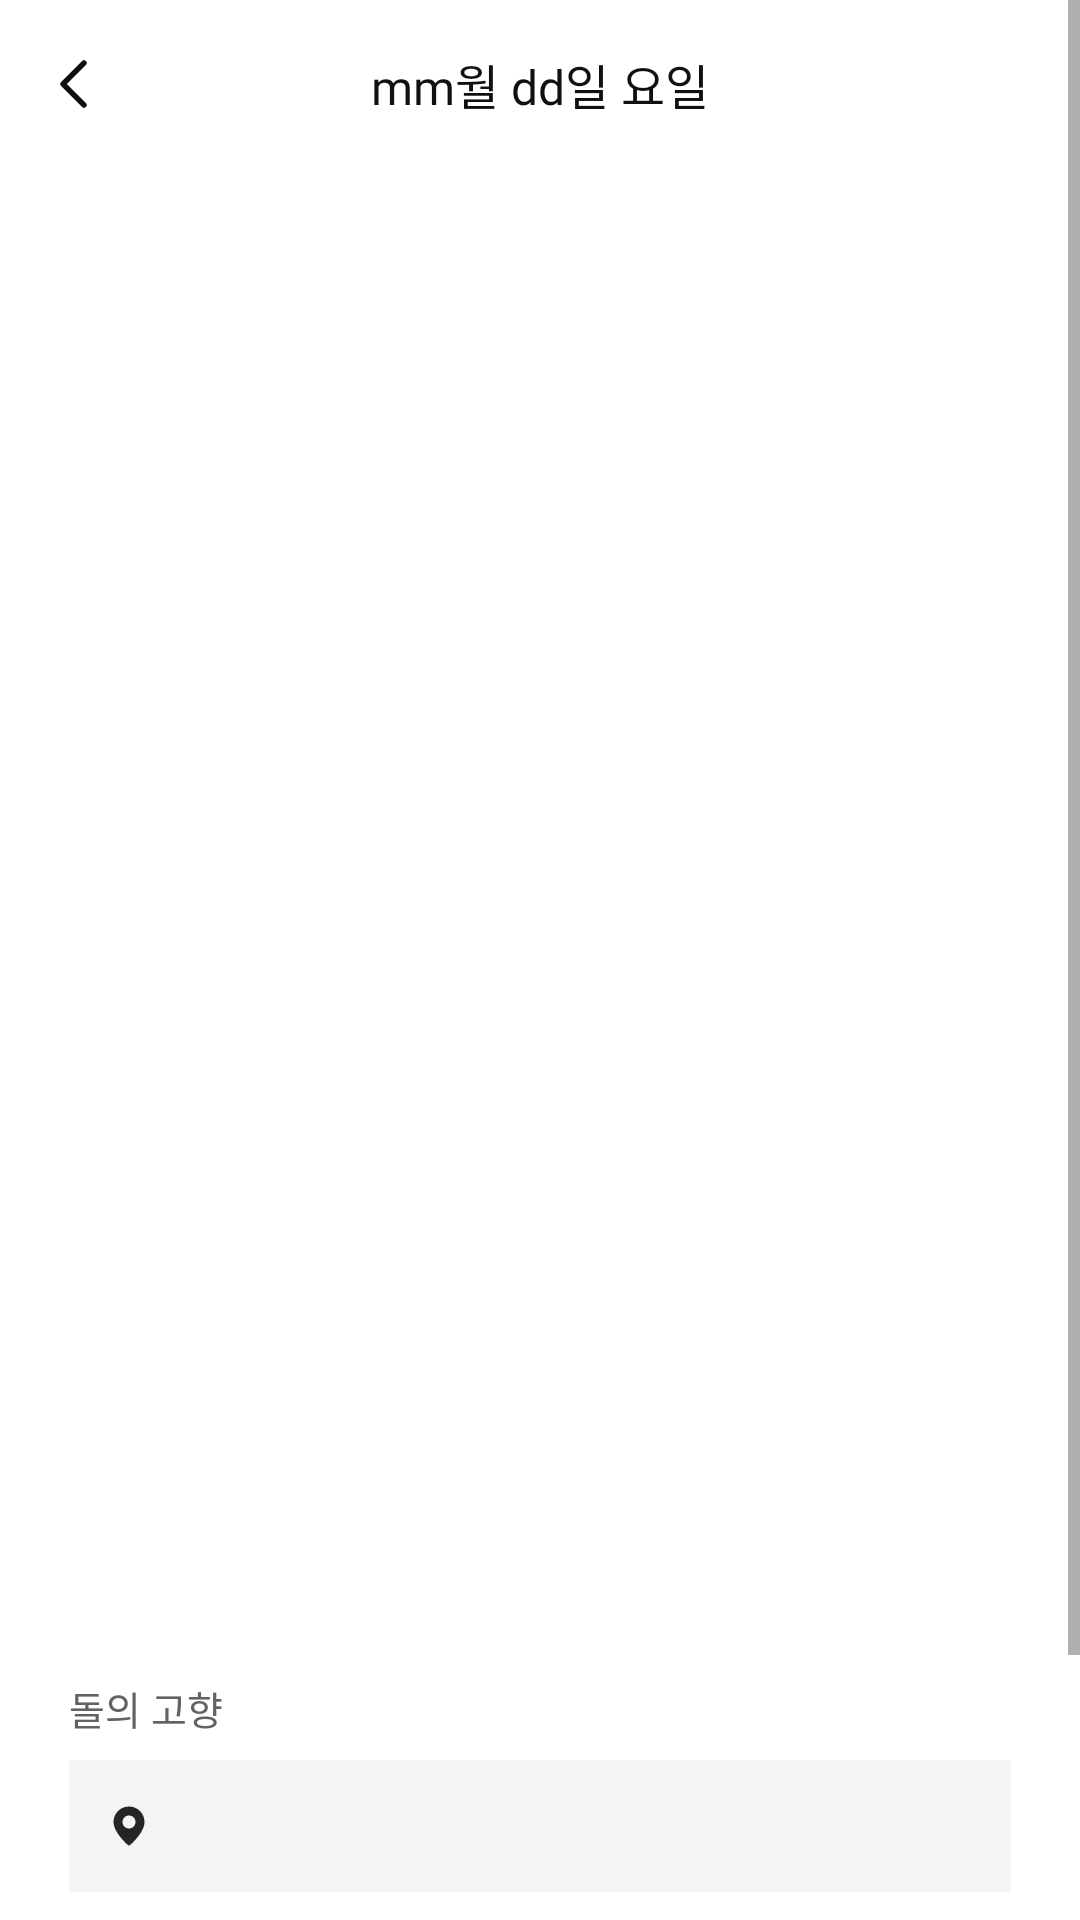

Where to tap for icons on this 1080px×1920px app screen, as (x,y):
enroll location: (129,1826)
title back: (73,84)
